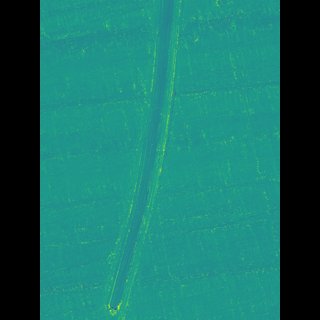Loch: (111, 0, 179, 320)
